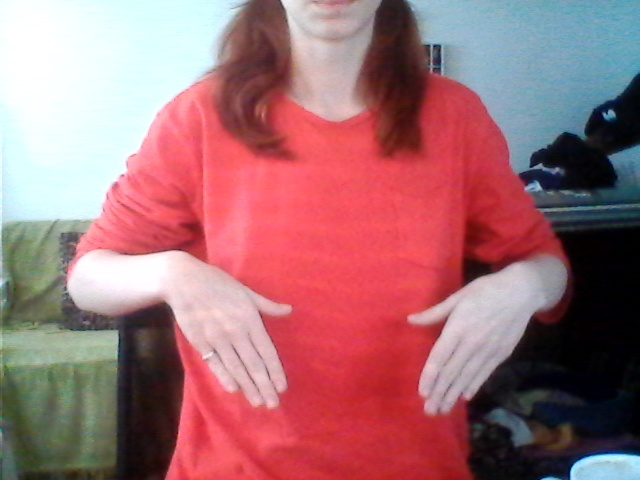zena: (160, 238, 498, 429)
